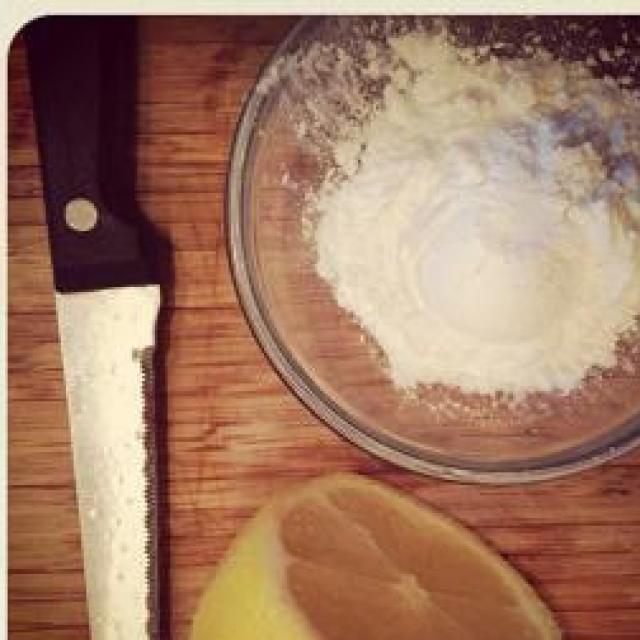knife: (18, 18, 213, 640)
